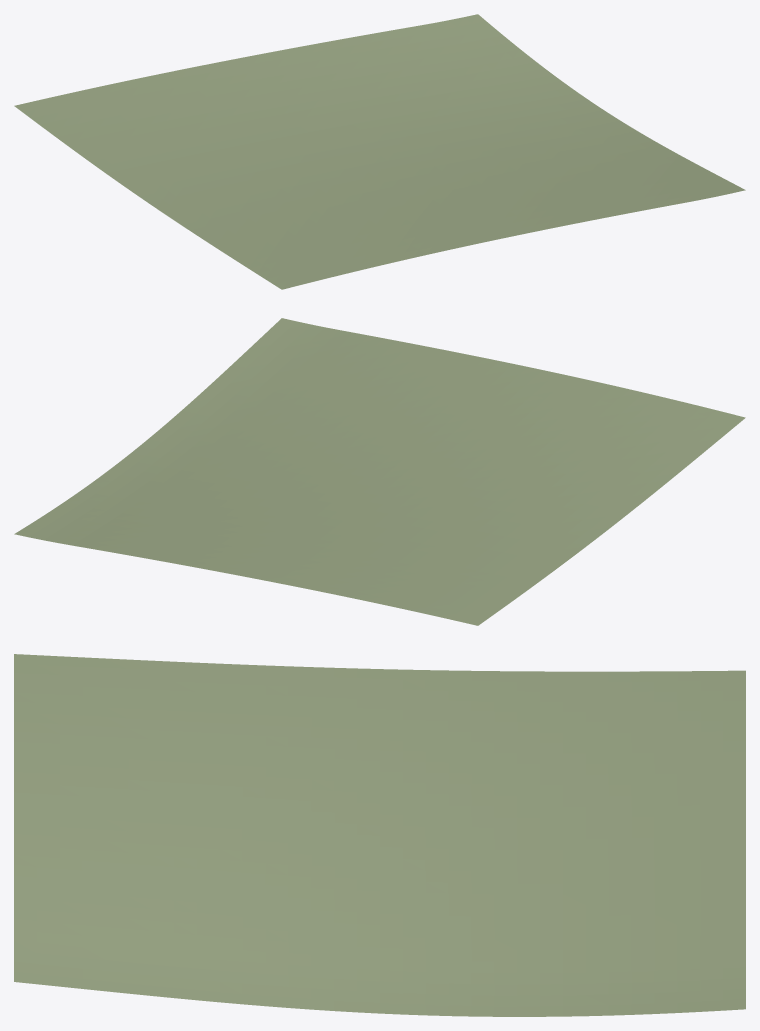
The model's file is desert-21-5.glb.
The picture shows the model from 3 angles, top to bottom: view 1: azimuth 30°, elevation 25°; view 2: azimuth 150°, elevation 25°; view 3: azimuth 270°, elevation 25°; orthographic projection. The views are drawn at different scales.
Visible parts, largest first — view 1: desert-21-5; view 2: desert-21-5; view 3: desert-21-5.
Boxes of the visible parts, x1,y1,x2,y2 form: desert-21-5: [14, 14, 745, 289]; desert-21-5: [14, 318, 745, 625]; desert-21-5: [14, 654, 745, 1016].
Bounding box in the file's own units: 512 × 41.73 × 512.
